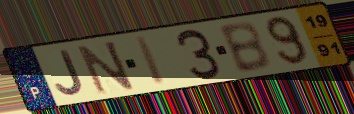3: (173, 27, 222, 82)
9: (265, 14, 310, 69)
B: (216, 19, 273, 75)
I: (133, 34, 169, 87)
J: (54, 48, 87, 98)
N: (75, 39, 138, 97)
